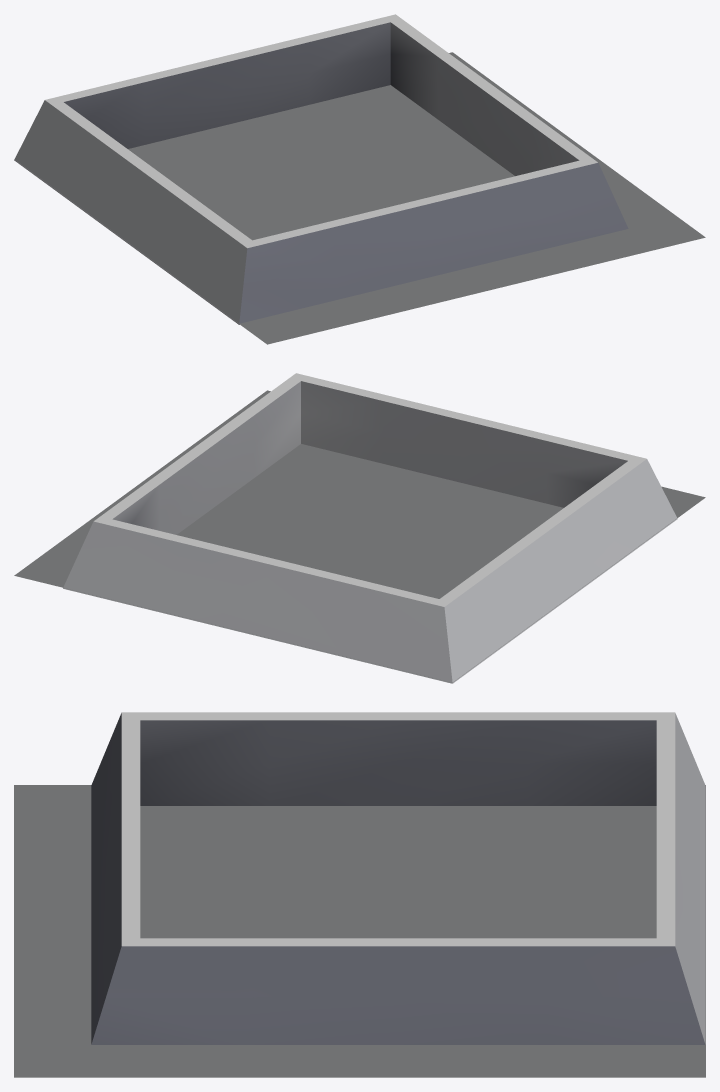
Rendered from block.glb.
3 renders of one model, top to bottom at view 1: azimuth 30°, elevation 25°; view 2: azimuth 150°, elevation 25°; view 3: azimuth 270°, elevation 25°, orthographic. The views are drawn at different scales.
Visible parts, largest first — view 1: Cube, Plane; view 2: Cube, Plane; view 3: Cube, Plane.
Boxes of the visible parts, box(x1,y1,x2,y2) form: Cube: box(14, 14, 628, 324); Plane: box(14, 52, 705, 344); Cube: box(63, 373, 677, 683); Plane: box(14, 390, 705, 682); Cube: box(91, 712, 705, 1044); Plane: box(14, 785, 705, 1077).
Size of the model in its own units: 9 by 1.25 by 9.
2 materials, 2 textured.
